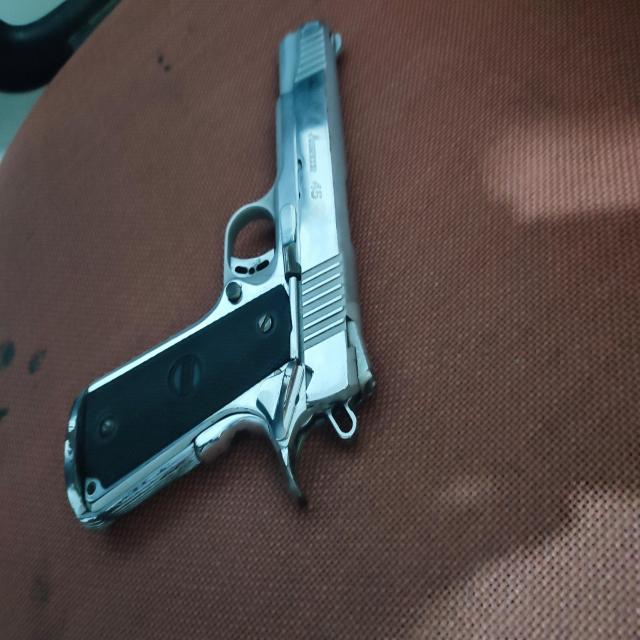pistol: (63, 18, 374, 525)
